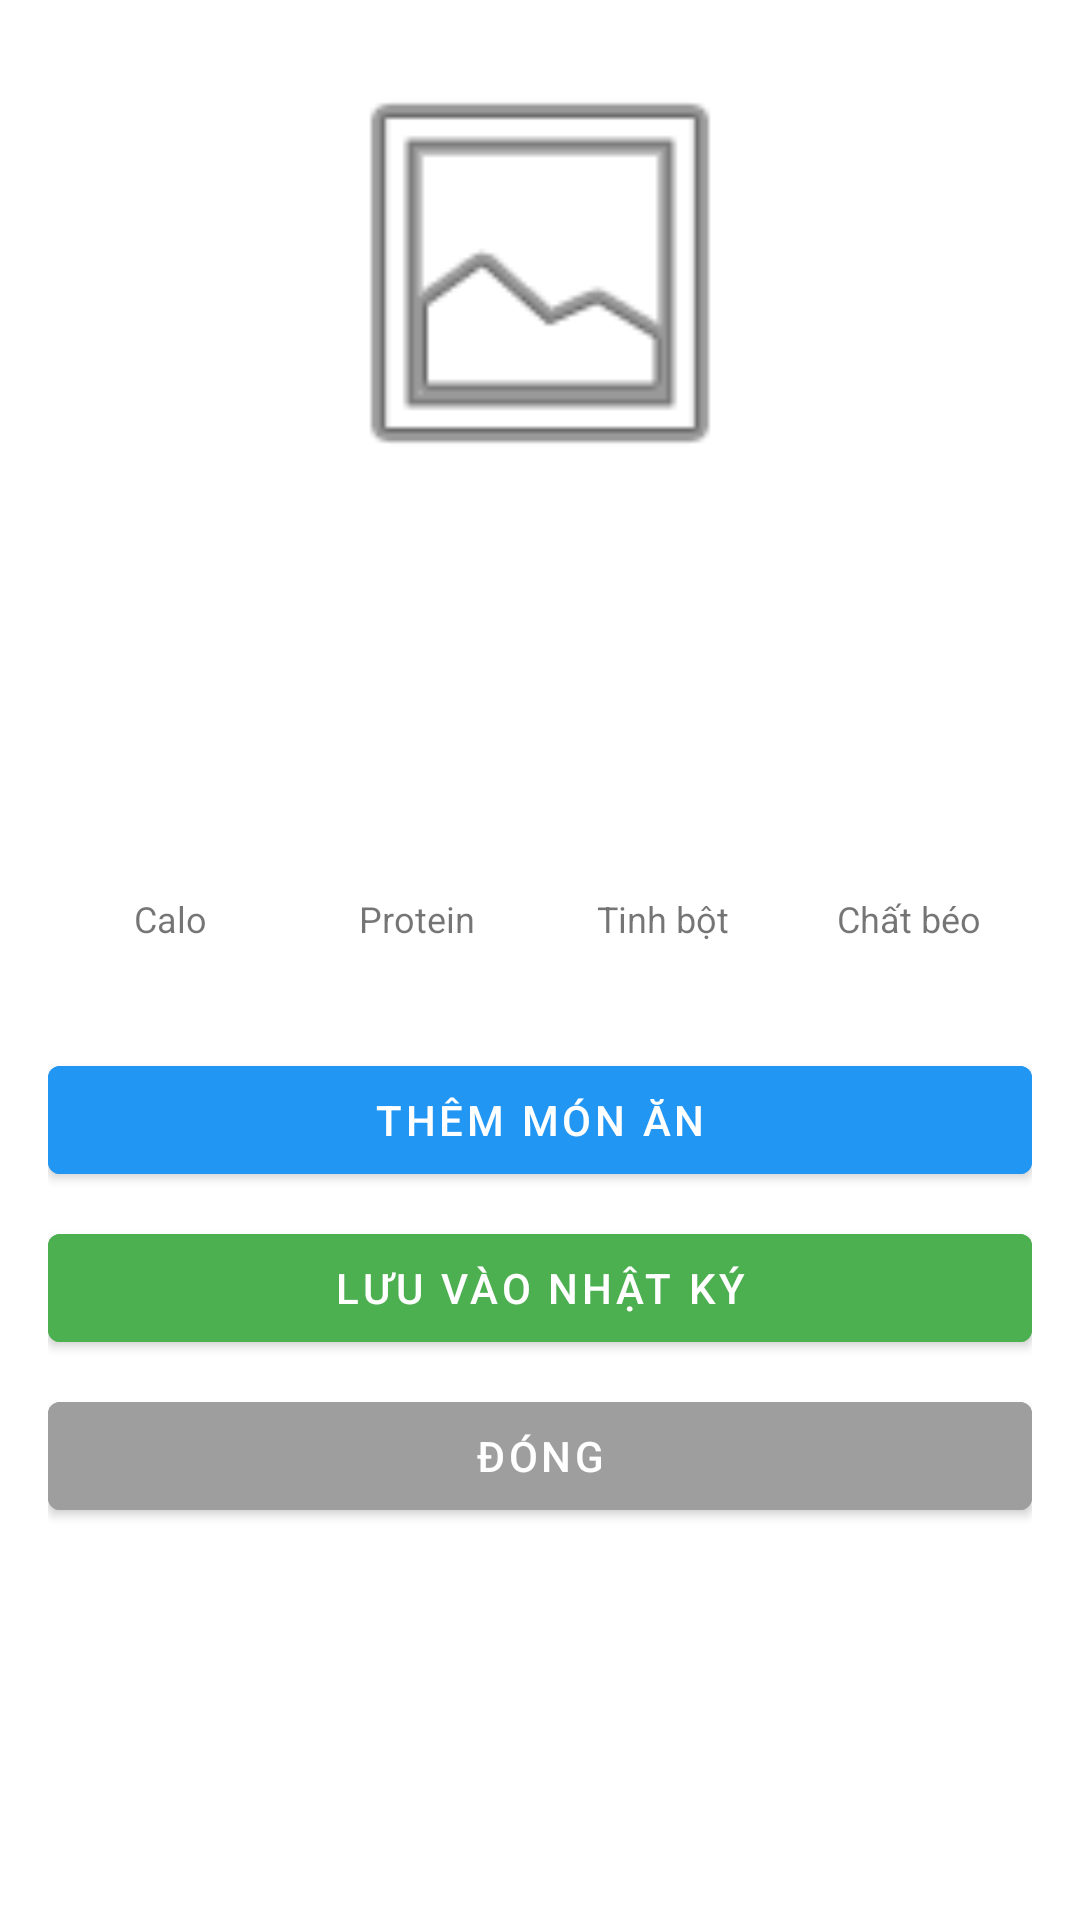

Named icons in this screenshot (1080px×1920px) and their centers, (x=x, y=y):
gallery: (x=540, y=273)
